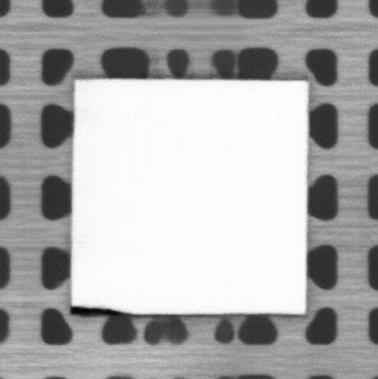DIE_BROKEN: (69, 304, 130, 317)
